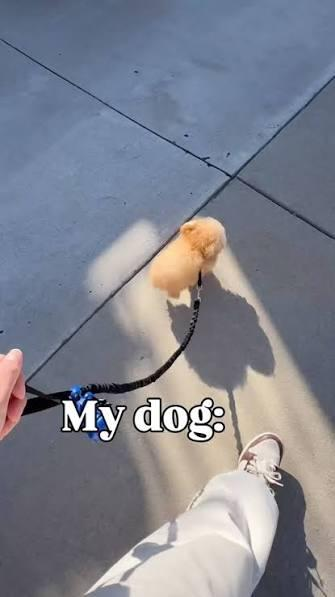non-dog: (0, 347, 285, 597)
puppy-dog: (148, 215, 228, 308)
